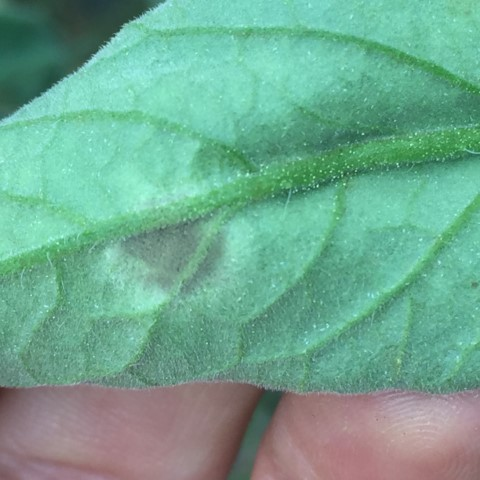negra: (118, 215, 231, 294)
